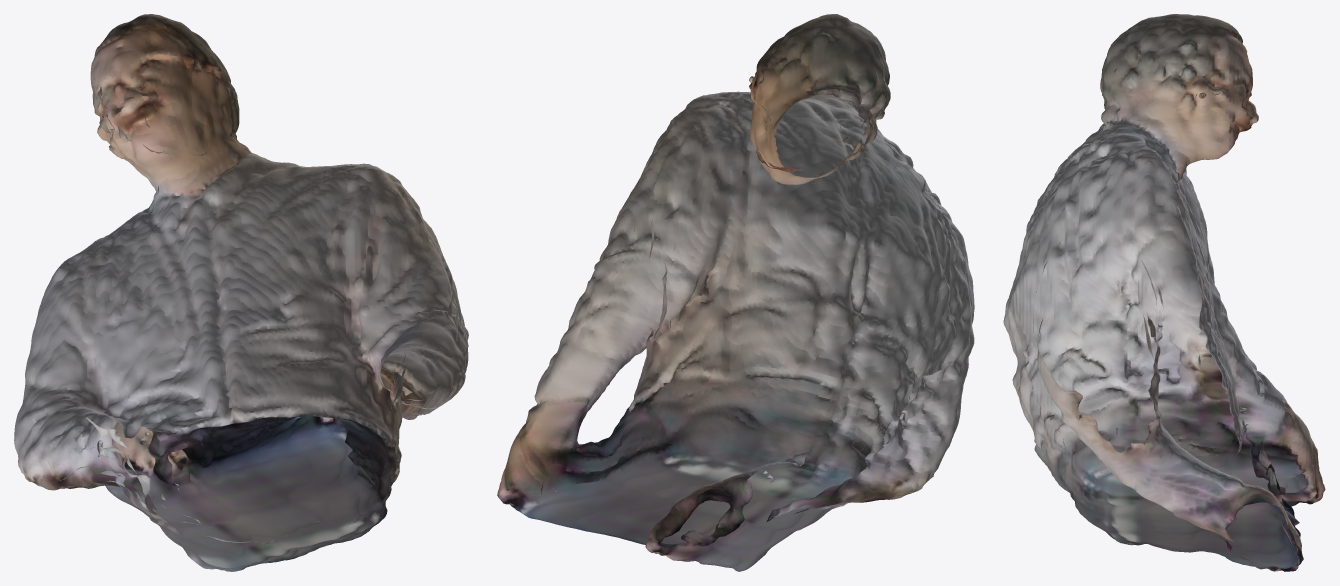
File: jackson-triposr.glb
3 renders of one model, left to right at view 1: azimuth 30°, elevation 25°; view 2: azimuth 150°, elevation 25°; view 3: azimuth 270°, elevation 25°, orthographic. The views are drawn at different scales.
Visible parts, largest first — view 1: geometry_0; view 2: geometry_0; view 3: geometry_0.
Boxes of the visible parts, left/top/right/bottom form: geometry_0: left=14, top=14, right=468, bottom=571; geometry_0: left=497, top=14, right=974, bottom=571; geometry_0: left=1003, top=14, right=1325, bottom=571.
Bounding box in the file's own units: 0.8198 × 0.9818 × 0.6287.
